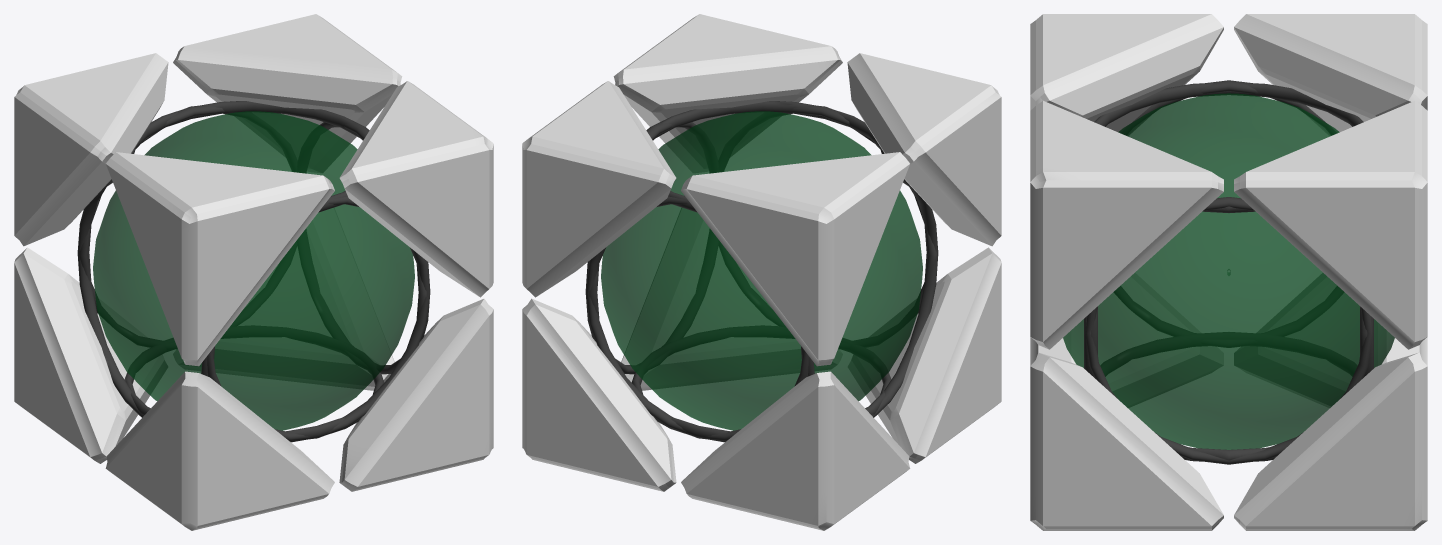
File: PortalCubeBabylon.gltf
3 views of the same model, side by side, from view 1: azimuth 30°, elevation 25°; view 2: azimuth 150°, elevation 25°; view 3: azimuth 270°, elevation 25° (orthographic). The views are drawn at different scales.
Visible parts, largest first — view 1: Cube; view 2: Cube; view 3: Cube.
Part boxes in pixels (x1,y1,x2,y2): Cube: (14,14,493,530); Cube: (522,14,1001,530); Cube: (1030,14,1427,530).
Bounding box in the file's own units: 0.2008 × 0.1989 × 0.1997.
1 material, 1 textured.
